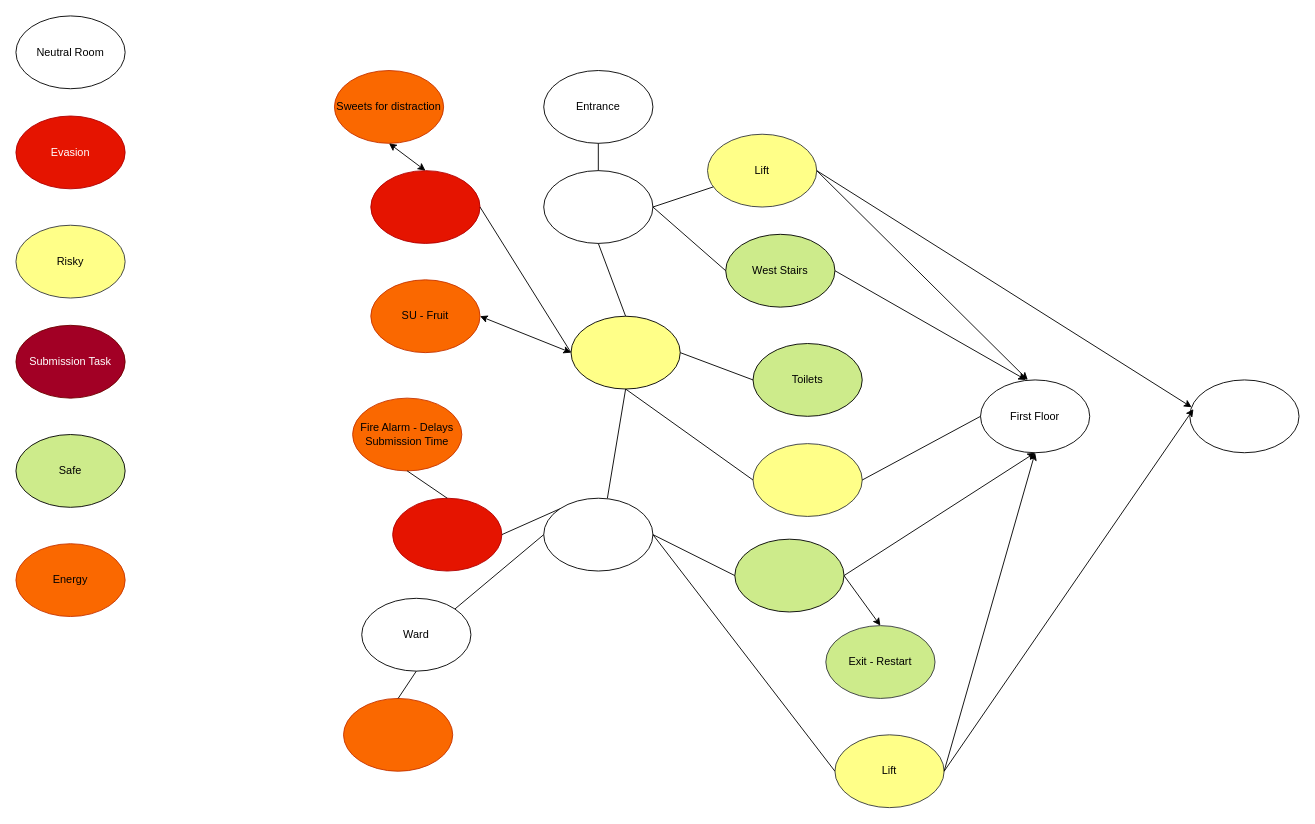
The diagram is 1315 pixels wide and 824 high, and some of its shapes have lost their labels. Each missing label, with the box of its shape:
Atrium: (570, 315, 680, 389)
Cafe: (370, 170, 480, 243)
East Stairs: (734, 538, 844, 612)
Lab: (392, 497, 502, 571)
Reception: (543, 170, 653, 243)
Seating Area: (543, 497, 653, 571)
Second Floor: (1189, 379, 1299, 453)
Sleeping Tablets: (343, 698, 453, 771)
Stairs: (752, 443, 862, 516)
